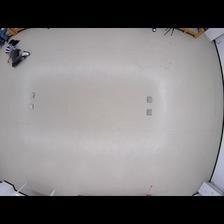fall: (3, 38, 33, 68)
